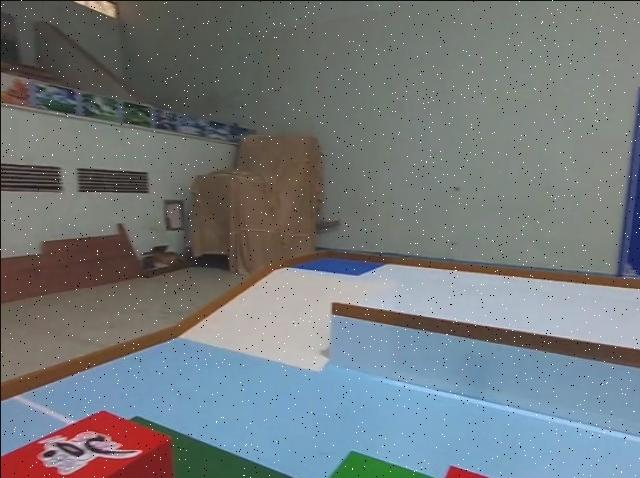R1: (0, 406, 177, 478)
